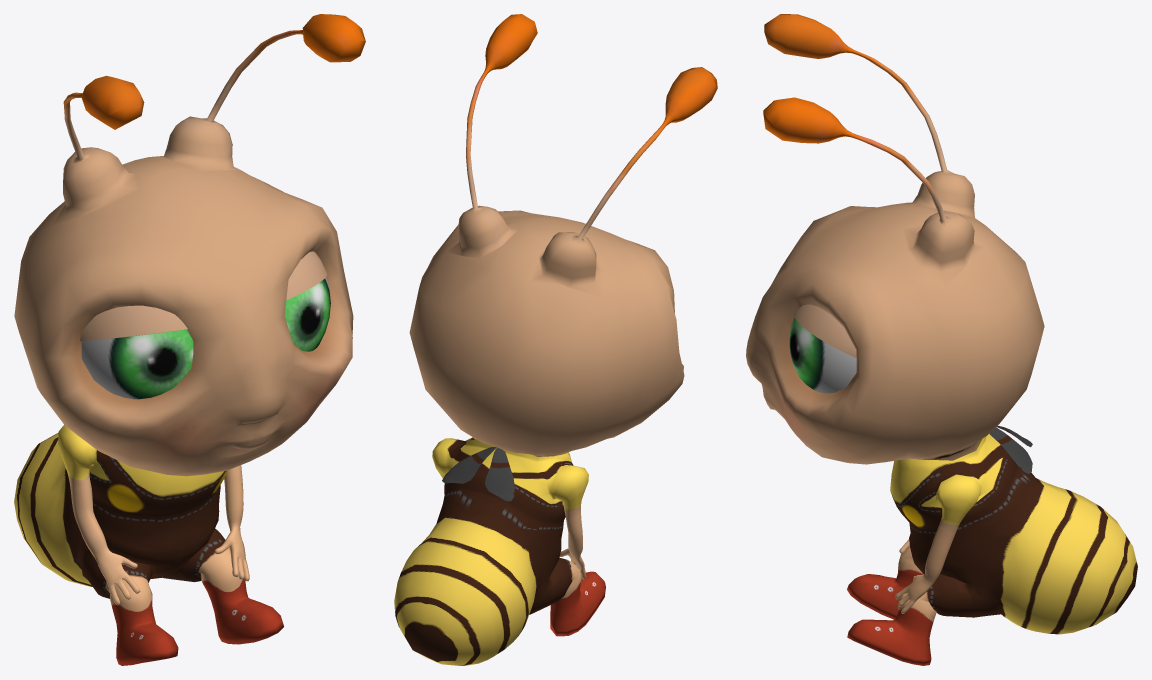
The model's file is Firefly.fbx.
3 renders of one model, left to right at view 1: azimuth 30°, elevation 25°; view 2: azimuth 150°, elevation 25°; view 3: azimuth 270°, elevation 25°, orthographic. The views are drawn at different scales.
Parts seen in each view (by area): view 1: geo1_Head_GEO; view 2: geo1_Head_GEO; view 3: geo1_Head_GEO.
Part boxes in pixels (box(x1,y1,x2,y2)): geo1_Head_GEO: box(14, 14, 365, 665); geo1_Head_GEO: box(394, 14, 717, 665); geo1_Head_GEO: box(746, 14, 1137, 665).
Size of the model in its own units: 12.79 by 27.16 by 16.66.
1 material, 1 textured.
